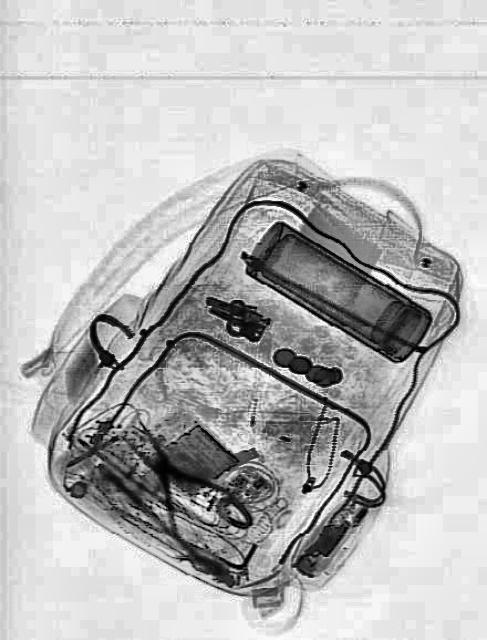Pliers: (105, 398, 231, 548)
